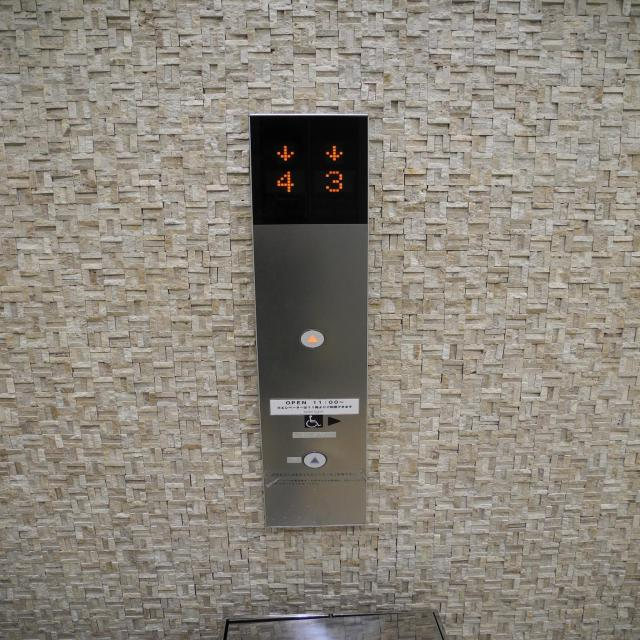CH: (304, 414, 323, 428)
led: (248, 116, 310, 224), (310, 115, 368, 224)
up: (298, 328, 325, 349), (302, 450, 327, 469)
